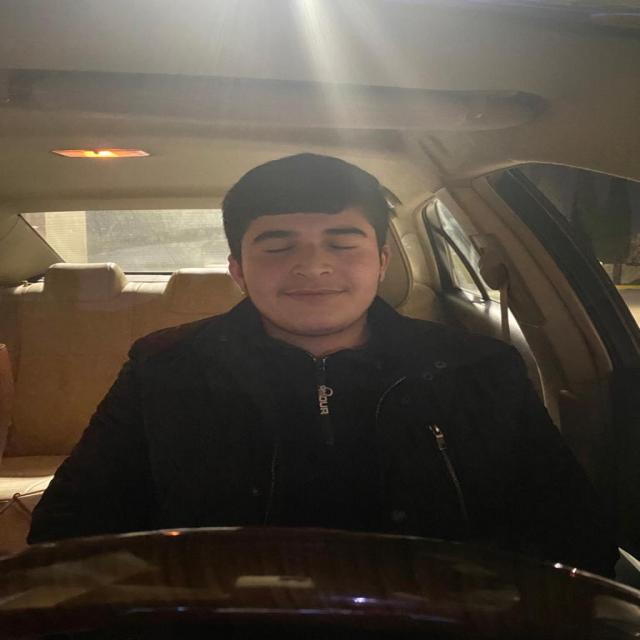drowsy: (215, 150, 406, 336)
